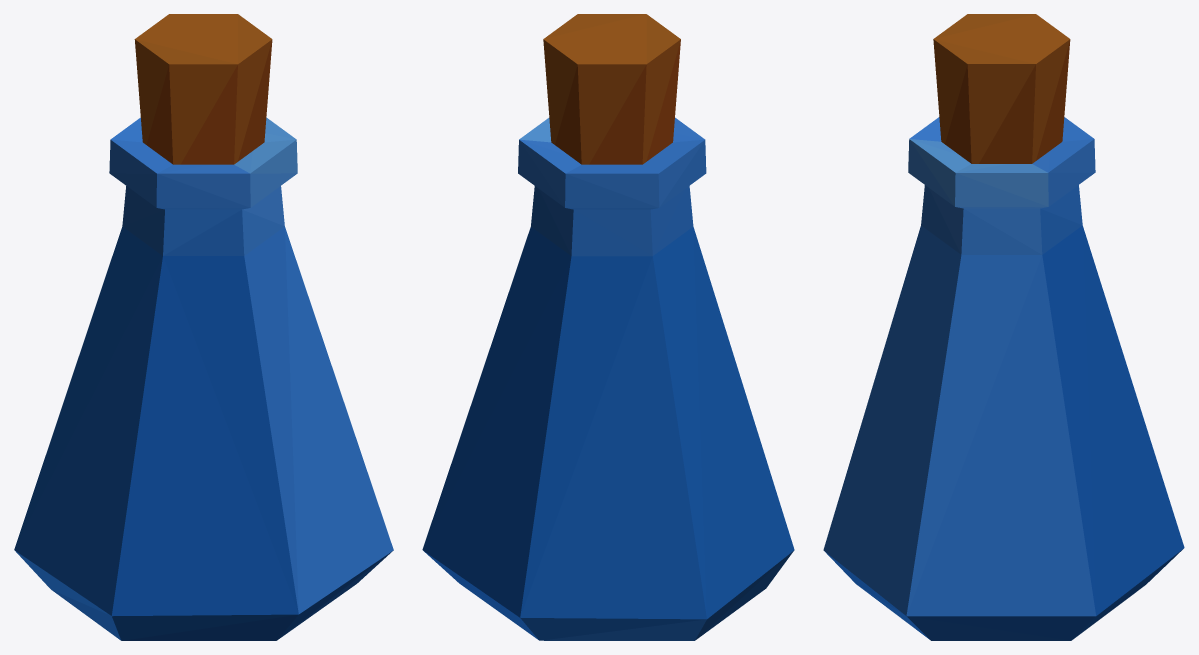
File: prop_bottle_potion_mana1.fbx
The picture shows the model from 3 angles, left to right: view 1: azimuth 30°, elevation 25°; view 2: azimuth 150°, elevation 25°; view 3: azimuth 270°, elevation 25°; orthographic projection.
Visible parts, largest first — view 1: prop_bottle_potion_mana1; view 2: prop_bottle_potion_mana1; view 3: prop_bottle_potion_mana1.
Part boxes in pixels (<box>): prop_bottle_potion_mana1: <box>14,14,393,640</box>; prop_bottle_potion_mana1: <box>422,14,794,640</box>; prop_bottle_potion_mana1: <box>823,14,1184,640</box>.
Bounding box in the file's own units: 0.3602 × 0.6635 × 0.3981.
